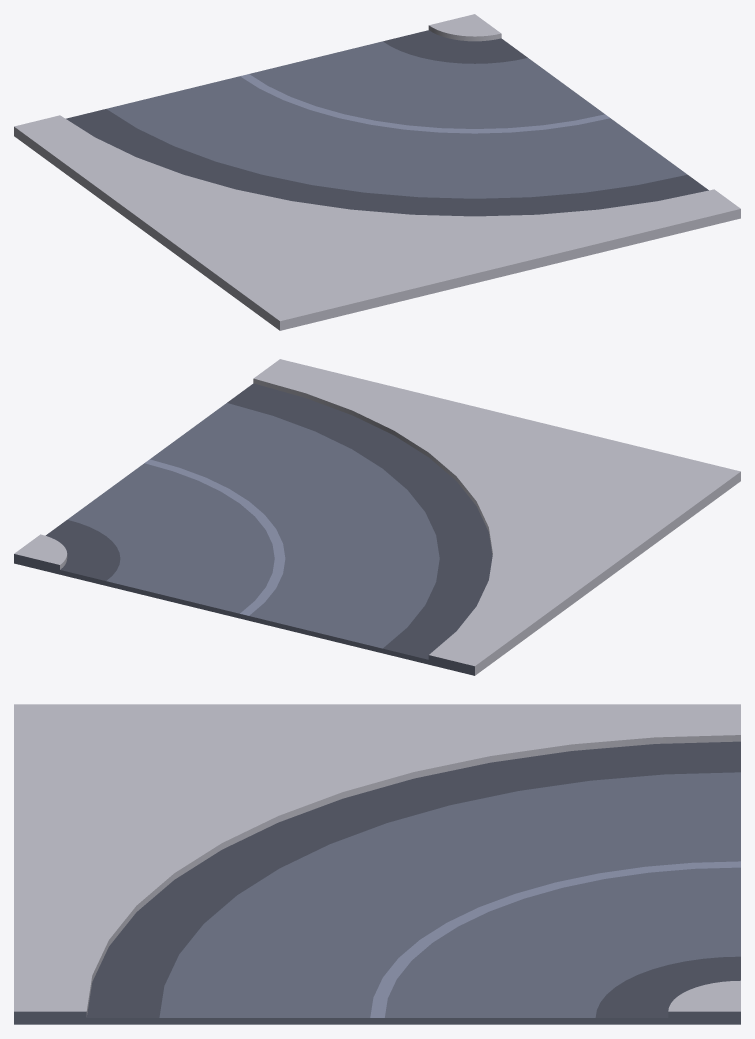
Rendered from Road Bend Sidewalk.glb.
3 views of the same model, one above another, from view 1: azimuth 30°, elevation 25°; view 2: azimuth 150°, elevation 25°; view 3: azimuth 270°, elevation 25° (orthographic). The views are drawn at different scales.
Parts seen in each view (by area): view 1: road_bendSidewalk; view 2: road_bendSidewalk; view 3: road_bendSidewalk.
Boxes of the visible parts, x1,y1,x2,y2 form: road_bendSidewalk: (14,14,740,330); road_bendSidewalk: (14,359,740,675); road_bendSidewalk: (14,704,740,1024).
Size of the model in its own units: 1 by 0.02 by 1.
